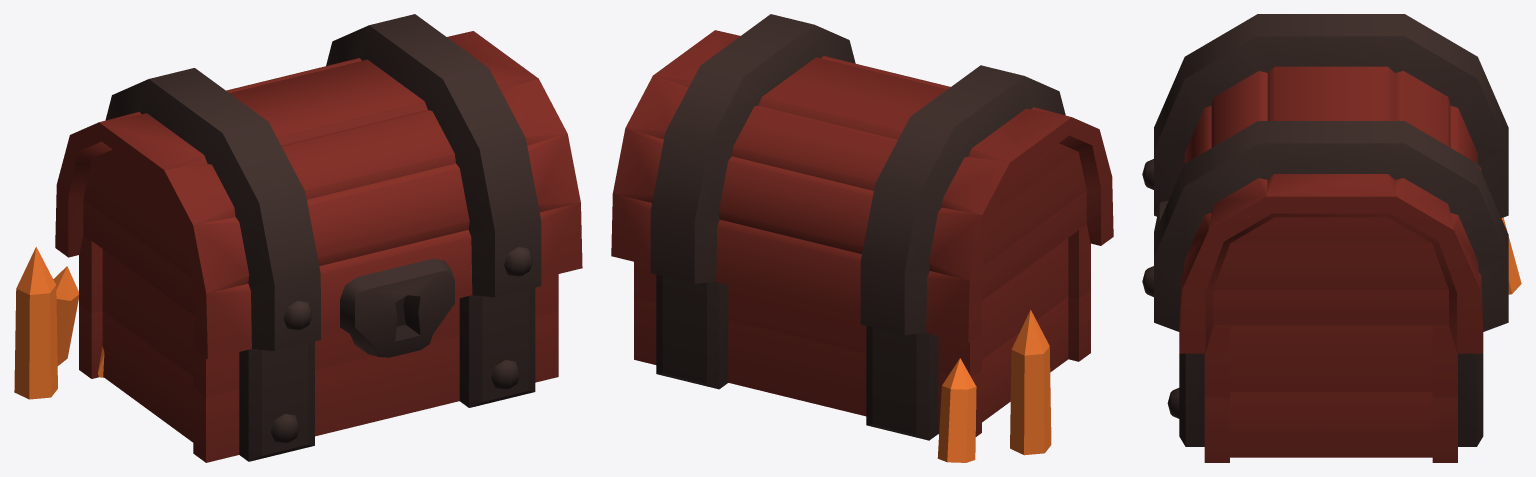
Rendered from chest.fbx.
The picture shows the model from 3 angles, left to right: view 1: azimuth 30°, elevation 25°; view 2: azimuth 150°, elevation 25°; view 3: azimuth 270°, elevation 25°; orthographic projection. The views are drawn at different scales.
Visible parts, largest first — view 1: Lid, chest; view 2: Lid, chest; view 3: Lid, chest.
Part boxes in pixels (x1,y1,x2,y2): Lid: [55, 14, 582, 359]; chest: [14, 235, 558, 462]; Lid: [611, 14, 1113, 342]; chest: [634, 224, 1090, 462]; Lid: [1142, 14, 1508, 353]; chest: [1167, 217, 1521, 462].
Size of the model in its own units: 1.42 by 0.9494 by 1.08.
